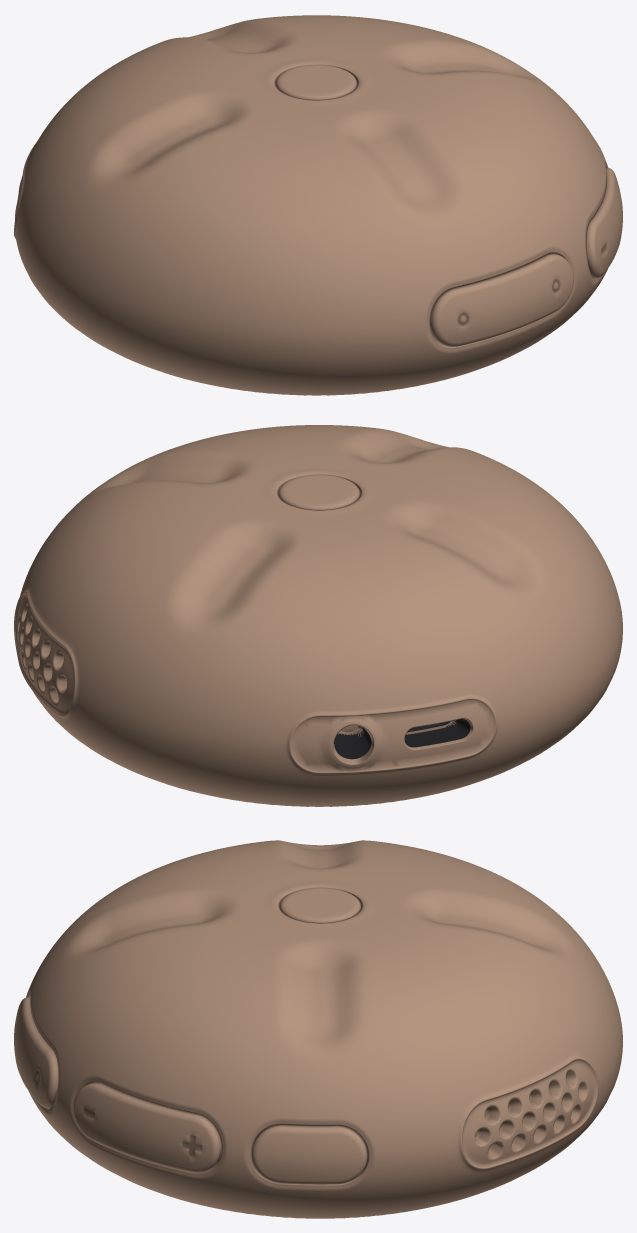
Rendered from stem-player.glb.
3 renders of one model, top to bottom at view 1: azimuth 30°, elevation 25°; view 2: azimuth 150°, elevation 25°; view 3: azimuth 270°, elevation 25°, orthographic.
Visible parts, largest first — view 1: Body, Btn_Dots, Btn_Volume, Btn_Center; view 2: Body, Btn_Center, Port_USB, Port_Jack; view 3: Body, Btn_Volume, Btn_Load, Btn_Dots, Btn_Center.
Boxes of the visible parts, bbox=[...] form: Body: bbox=[14, 15, 608, 395]; Btn_Dots: bbox=[430, 254, 573, 346]; Btn_Volume: bbox=[586, 168, 622, 278]; Btn_Center: bbox=[276, 65, 357, 99]; Body: bbox=[14, 425, 622, 806]; Btn_Center: bbox=[278, 474, 359, 509]; Port_USB: bbox=[404, 718, 470, 747]; Port_Jack: bbox=[334, 727, 371, 759]; Body: bbox=[26, 840, 622, 1218]; Btn_Volume: bbox=[73, 1083, 220, 1172]; Btn_Load: bbox=[251, 1125, 367, 1184]; Btn_Dots: bbox=[14, 997, 57, 1108]; Btn_Center: bbox=[280, 888, 360, 922].
Size of the model in its own units: 0.0704 by 0.0321 by 0.0704.
